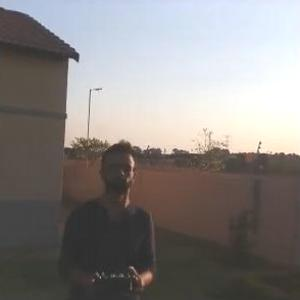follow: (54, 136, 160, 299)
